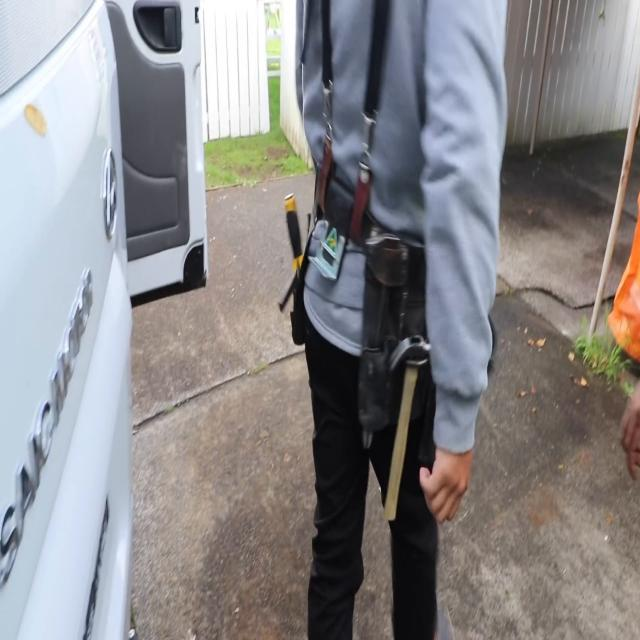hammer: (383, 335, 431, 519)
